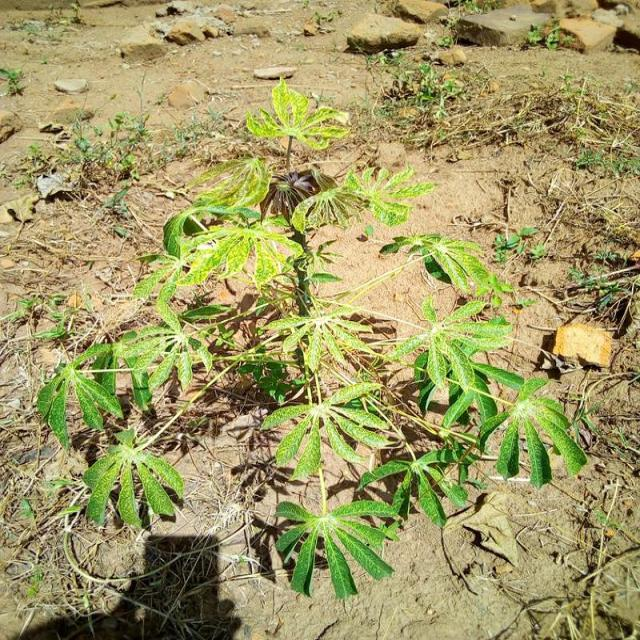cassava leaf: (38, 75, 591, 600), (274, 470, 401, 600), (82, 426, 184, 530)
